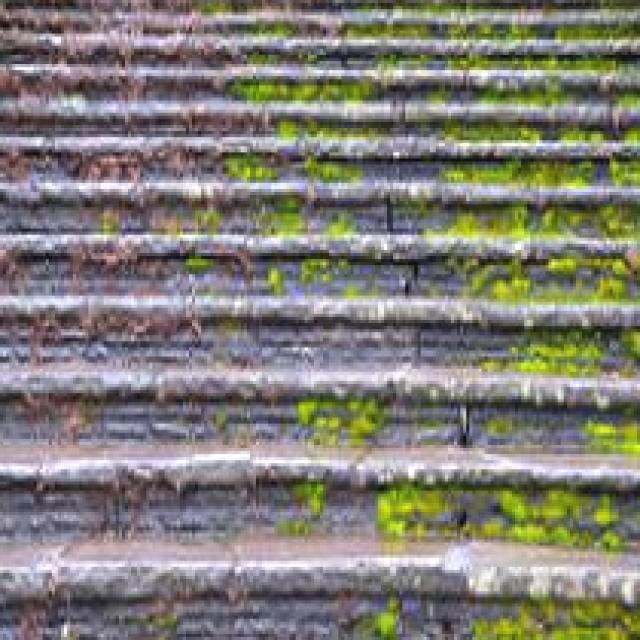upstair: (1, 59, 632, 583)
